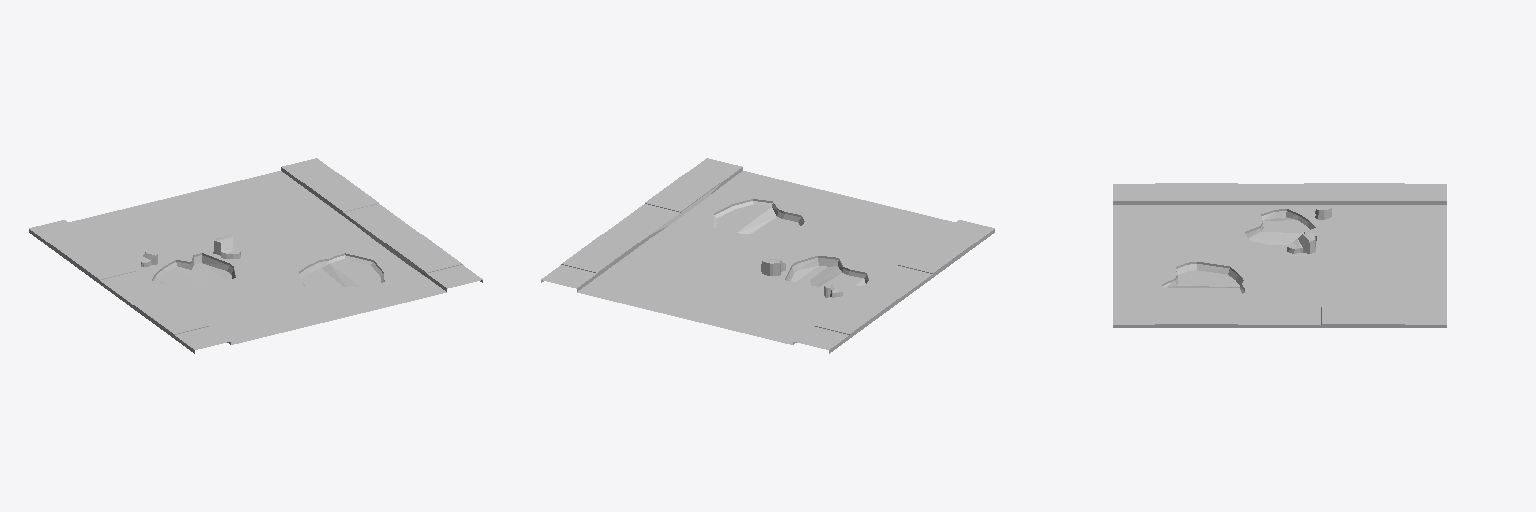
The model's file is Street_Straight_Crack2.obj.
The picture shows the model from 3 angles: view 1: azimuth 30°, elevation 25°; view 2: azimuth 150°, elevation 25°; view 3: azimuth 270°, elevation 25°; orthographic projection.
Visible parts, largest first — view 1: Street_Straight_Crack2_Cube.039; view 2: Street_Straight_Crack2_Cube.039; view 3: Street_Straight_Crack2_Cube.039.
Boxes of the visible parts, x1=… form: Street_Straight_Crack2_Cube.039: x1=29, y1=158, x2=482, y2=353; Street_Straight_Crack2_Cube.039: x1=541, y1=158, x2=994, y2=353; Street_Straight_Crack2_Cube.039: x1=1113, y1=183, x2=1446, y2=327.
Size of the model in its own units: 8 by 0.5802 by 8.